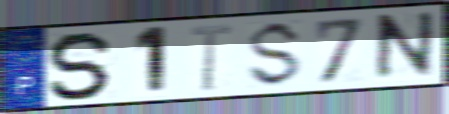1: (131, 24, 169, 98)
7: (314, 15, 367, 86)
N: (371, 8, 437, 85)
S: (45, 29, 118, 102), (245, 19, 306, 90)
T: (188, 22, 235, 94)
